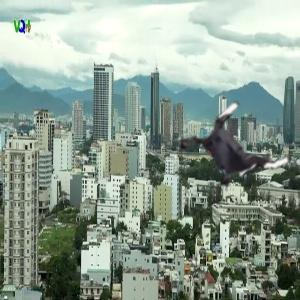drone: (181, 99, 286, 204)
